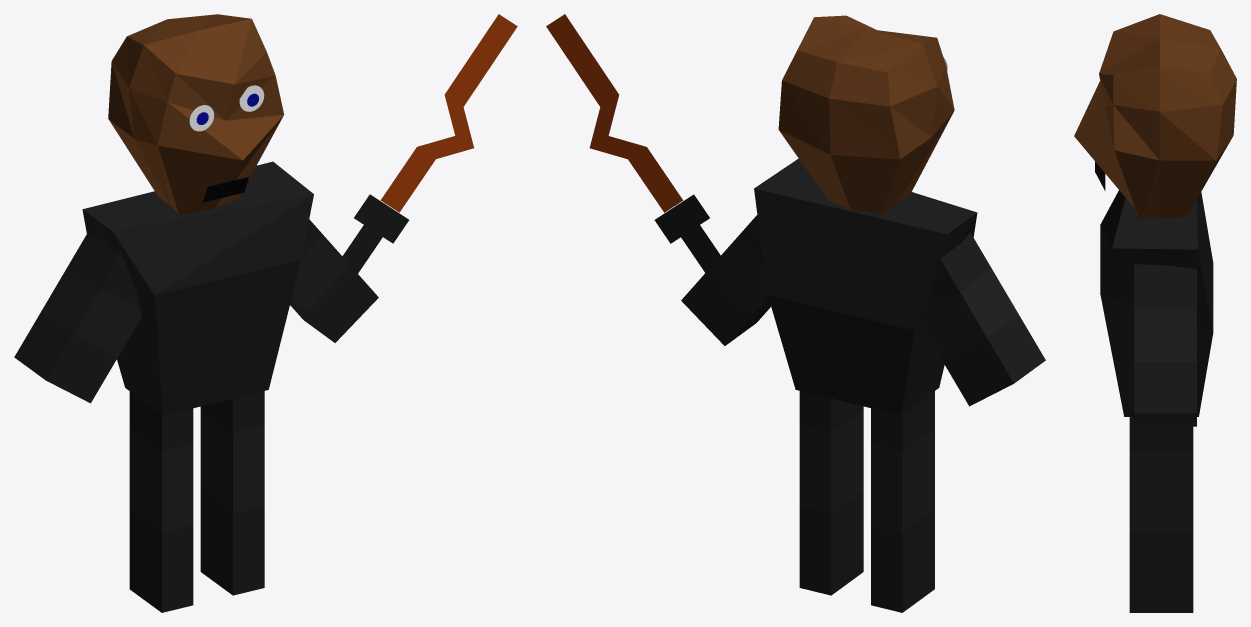
File: swordsman1.obj
3 views of the same model, side by side, from view 1: azimuth 30°, elevation 25°; view 2: azimuth 150°, elevation 25°; view 3: azimuth 270°, elevation 25° (orthographic).
Parts seen in each view (by area): view 1: Cube.001, Cube, Cube.004, Cube.005, Cube.003, Cube.002, Plane.003_Plane.004, Plane.002_Plane.003, Plane.001_Plane.002; view 2: Cube.001, Cube, Cube.004, Cube.005, Cube.003, Cube.002, Plane.003_Plane.004, Plane.002_Plane.003, Plane.001_Plane.002; view 3: Cube, Cube.005, Cube.001, Cube.002.
Boxes of the visible parts, box(x1,y1,x2,y2) form: Cube.001: box(82, 161, 313, 415); Cube: box(108, 14, 284, 214); Cube.004: box(129, 391, 193, 612); Cube.005: box(200, 391, 264, 595); Cube.003: box(14, 232, 141, 403); Cube.002: box(290, 219, 378, 342); Plane.003_Plane.004: box(380, 14, 517, 212); Plane.002_Plane.003: box(354, 194, 408, 243); Plane.001_Plane.002: box(342, 221, 382, 273); Cube.001: box(754, 158, 977, 415); Cube: box(778, 15, 954, 213); Cube.004: box(871, 391, 934, 612); Cube.005: box(799, 391, 863, 595); Cube.003: box(921, 232, 1045, 406); Cube.002: box(681, 215, 770, 345); Plane.003_Plane.004: box(546, 14, 682, 212); Plane.002_Plane.003: box(654, 194, 709, 243); Plane.001_Plane.002: box(678, 221, 720, 272); Cube: box(1074, 14, 1236, 218); Cube.005: box(1129, 417, 1193, 612); Cube.001: box(1100, 190, 1213, 416); Cube.002: box(1134, 264, 1196, 426).
Bounding box in the file's own units: 5.33 × 5.86 × 1.57.
